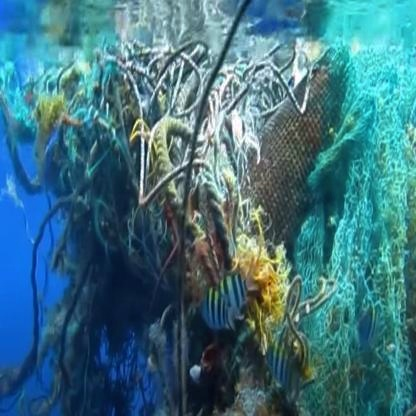net: (79, 60, 251, 247), (326, 109, 416, 412)
